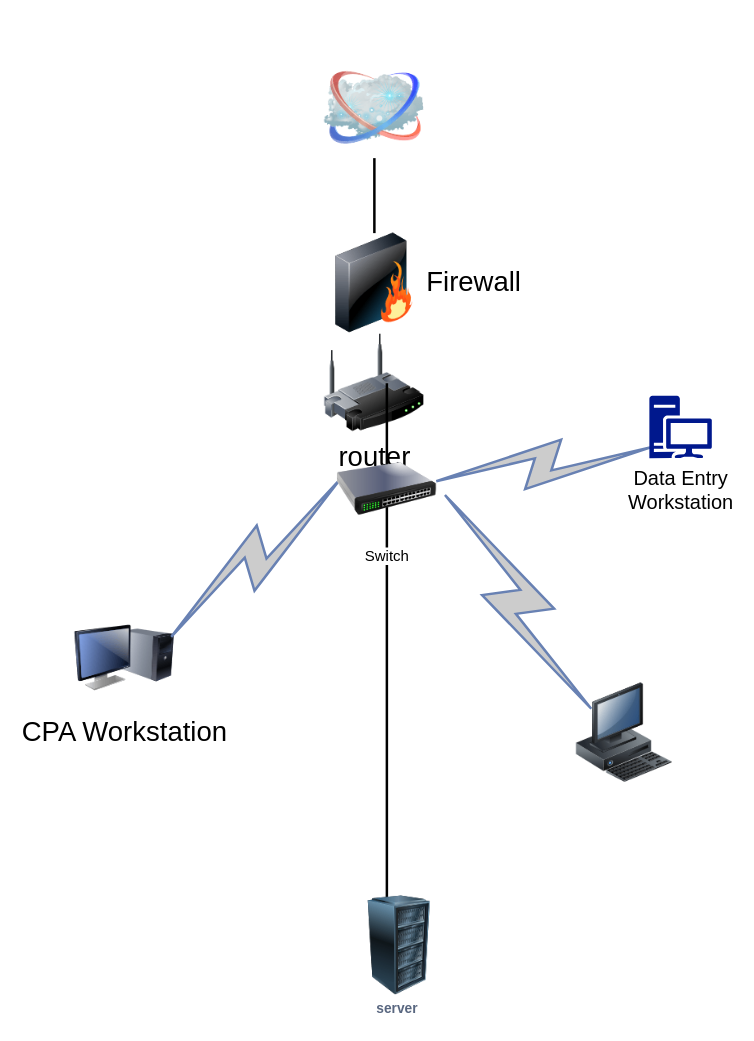
The diagram is 754 pixels wide and 1041 high, and some of its shapes have lost their labels. Here are the shapes that lost their labels. From the top down, the centre of each, then its label:
pixel 374 108: Internet
pixel 624 732: Tax Specialist Workstation
